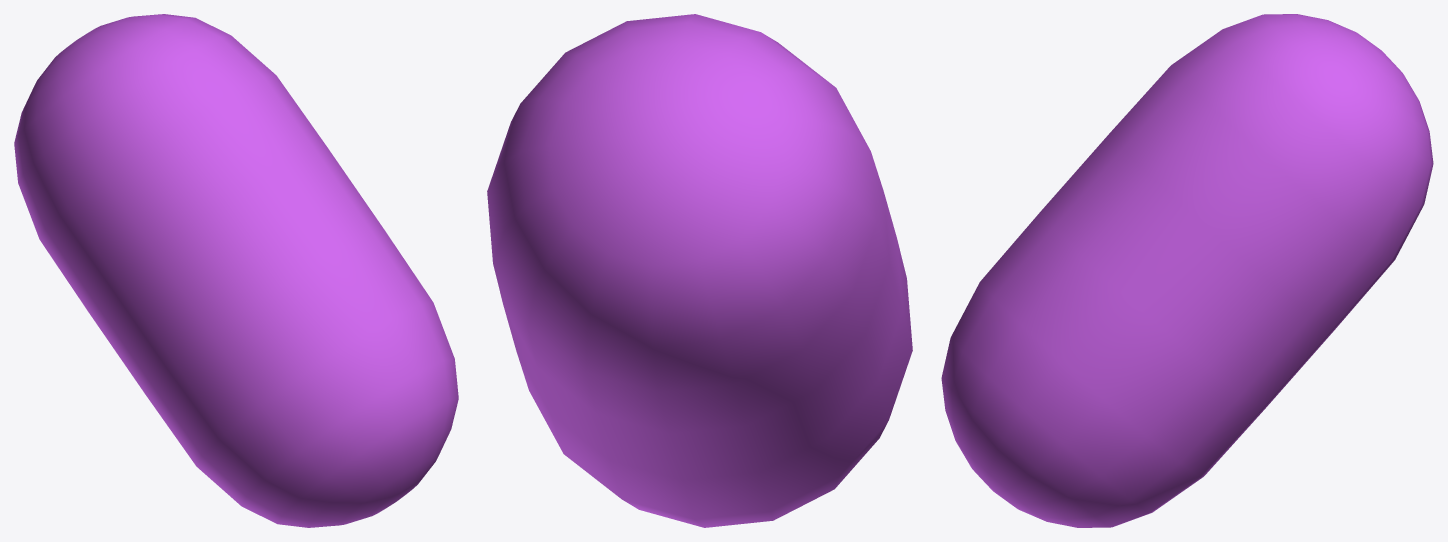
File: RNApoly_animSmall.glb
The picture shows the model from 3 angles, left to right: view 1: azimuth 30°, elevation 25°; view 2: azimuth 150°, elevation 25°; view 3: azimuth 270°, elevation 25°; orthographic projection. The views are drawn at different scales.
Visible parts, largest first — view 1: RNApoly; view 2: RNApoly; view 3: RNApoly.
Part boxes in pixels (x1,y1,x2,y2): RNApoly: (14,14,458,527); RNApoly: (487,14,912,527); RNApoly: (941,14,1433,527).
Bounding box in the file's own units: 0.3409 × 0.4645 × 0.4538.
